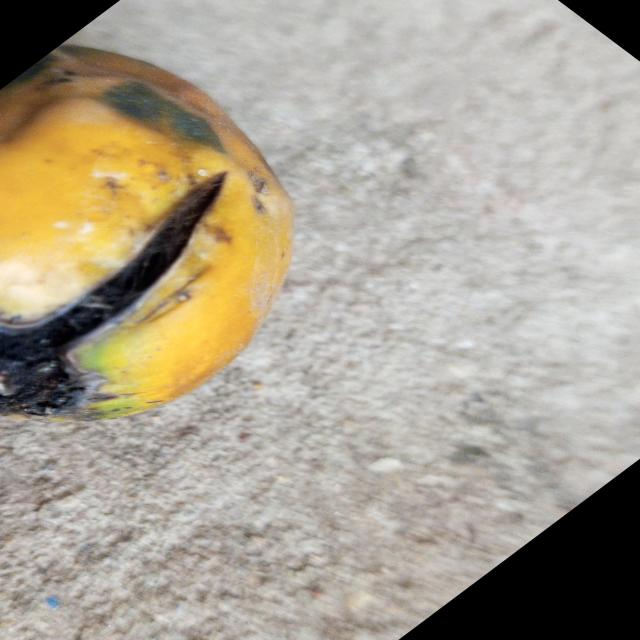damaged: (0, 46, 294, 417)
